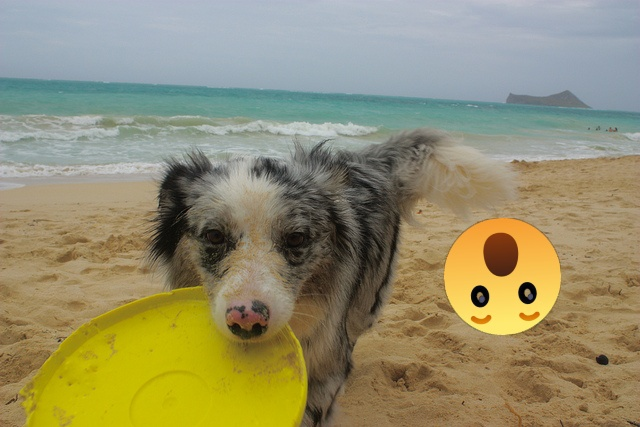wow: (444, 218, 561, 335)
